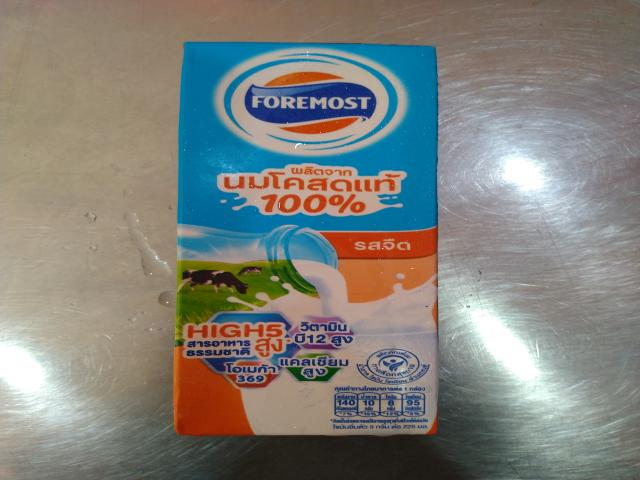drink_box: (124, 12, 522, 448)
